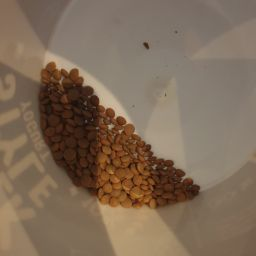Black Lentil(masoor daal): (27, 56, 223, 241)
